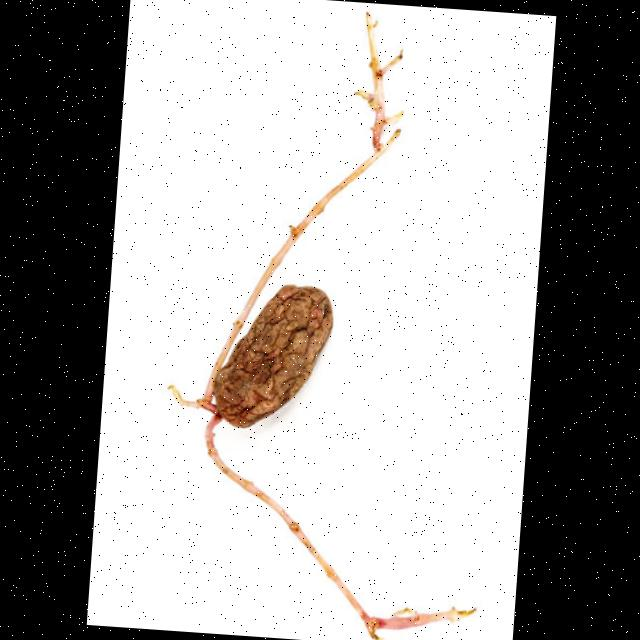Sprouted potato: (146, 254, 354, 468)
